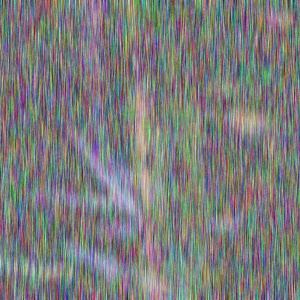Brown_Spot: (169, 58, 203, 102), (166, 142, 194, 195), (159, 201, 196, 239), (125, 192, 153, 239), (136, 84, 167, 126), (148, 225, 170, 282), (174, 12, 195, 58), (127, 40, 147, 84), (139, 23, 164, 53)
